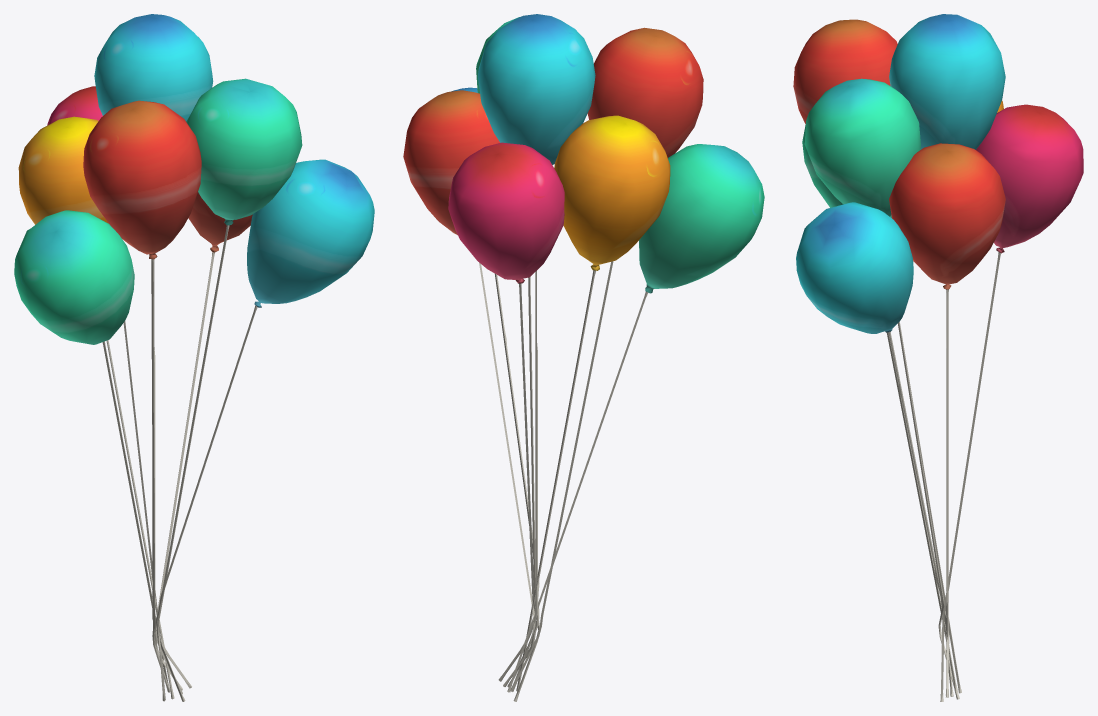
The model's file is Ballon_Bunch.fbx.
The picture shows the model from 3 angles, left to right: view 1: azimuth 30°, elevation 25°; view 2: azimuth 150°, elevation 25°; view 3: azimuth 270°, elevation 25°; orthographic projection. The views are drawn at different scales.
Parts seen in each view (by area): view 1: polySurface1; view 2: polySurface1; view 3: polySurface1.
Part boxes in pixels (<box>): polySurface1: <box>14,14,374,701</box>; polySurface1: <box>403,14,764,701</box>; polySurface1: <box>793,14,1083,701</box>.
Size of the model in its own units: 185 by 357 by 140.
5 materials, 5 textured.
